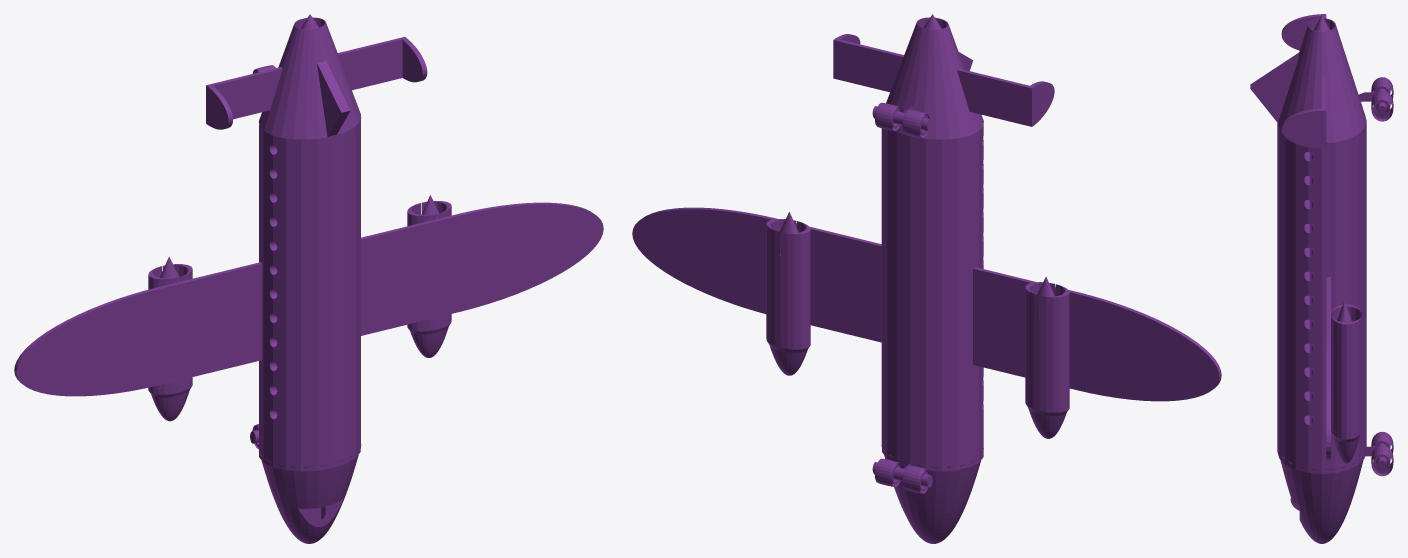
File: tinker.obj
The picture shows the model from 3 angles, left to right: view 1: azimuth 30°, elevation 25°; view 2: azimuth 150°, elevation 25°; view 3: azimuth 270°, elevation 25°; orthographic projection.
Parts seen in each view (by area): view 1: obj_0; view 2: obj_0; view 3: obj_0.
Boxes of the visible parts, x1,y1,x2,y2 form: obj_0: (14,14,603,543); obj_0: (632,14,1221,543); obj_0: (1250,14,1393,543).
Size of the model in its own units: 151 by 130 by 32.
